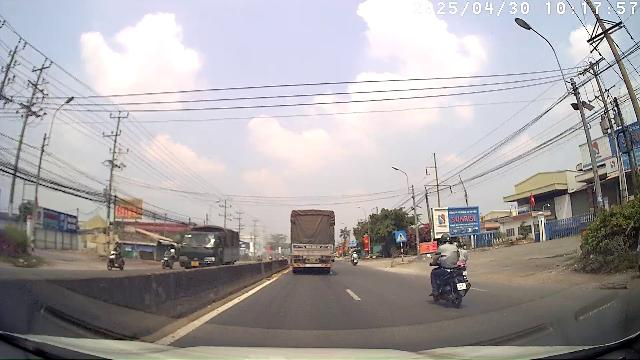423a-duong-nguoi-di-bo-sang-ngang-1: (396, 231, 406, 241)
